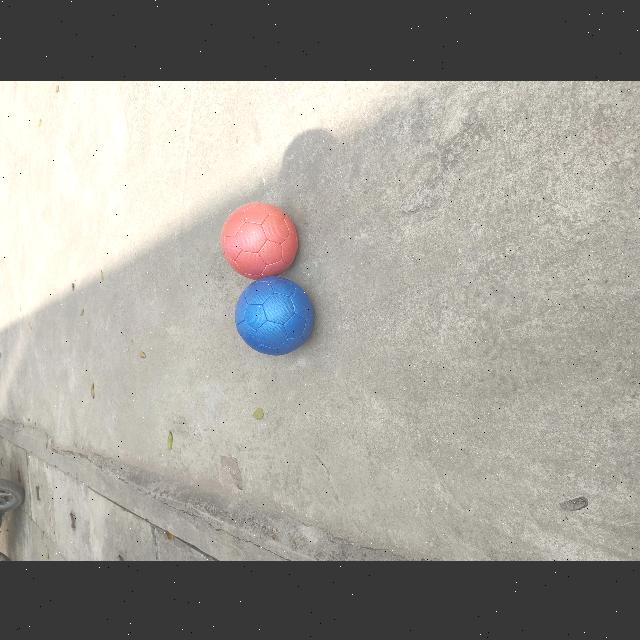B: (236, 275, 318, 355)
R: (222, 201, 302, 279)
